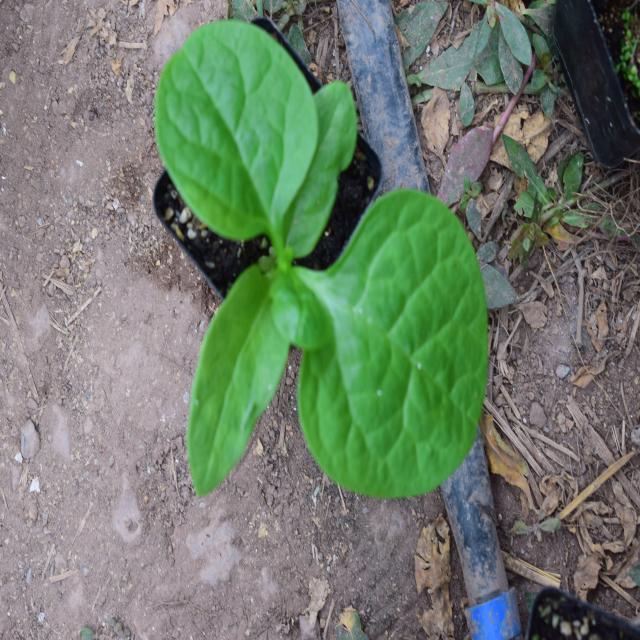Ceylon spinach: (126, 19, 474, 488)
